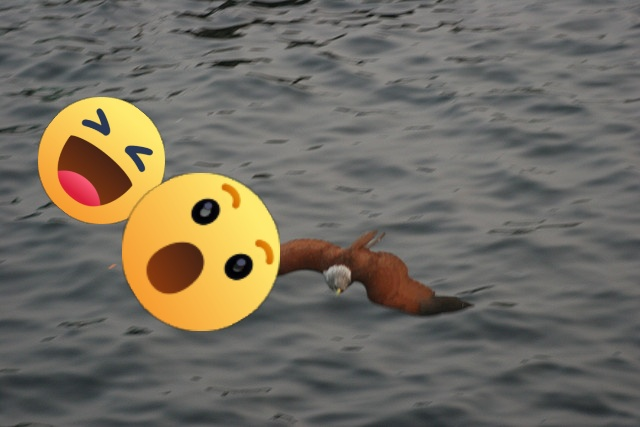haha: (38, 97, 165, 224)
wow: (122, 173, 280, 331)
